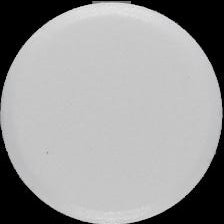51285-162: (0, 0, 224, 224)
